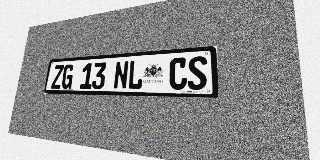1: (80, 63, 94, 89)
3: (91, 62, 106, 89)
C: (169, 57, 187, 90)
G: (61, 64, 74, 89)
L: (127, 60, 144, 89)
N: (113, 61, 129, 89)
S: (187, 56, 207, 90)
Z: (51, 65, 64, 89)
